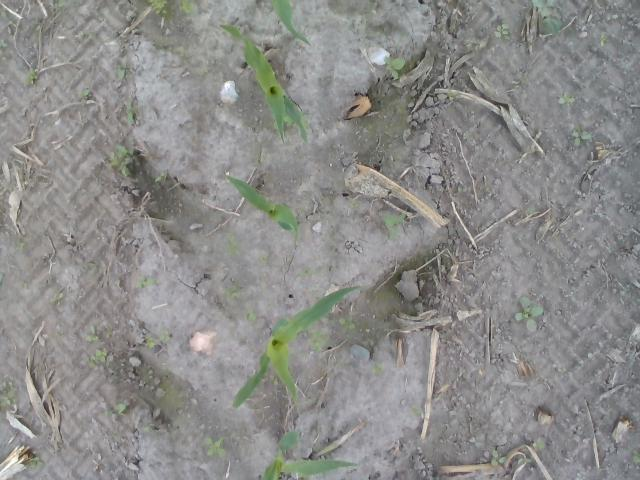Maize: (231, 286, 360, 410), (214, 21, 309, 146), (222, 174, 299, 244), (262, 432, 360, 480), (269, 0, 313, 48)
Weeds: (530, 0, 563, 37), (514, 294, 544, 332), (78, 348, 114, 368), (382, 211, 406, 241), (108, 142, 129, 176), (0, 380, 18, 418), (145, 0, 175, 21), (384, 55, 409, 80), (145, 328, 170, 352), (308, 329, 329, 353), (204, 436, 227, 456), (223, 234, 241, 257), (482, 448, 506, 465), (571, 128, 593, 146), (134, 272, 158, 288), (338, 316, 359, 334), (494, 20, 512, 40), (296, 265, 320, 279), (223, 284, 241, 302), (103, 403, 128, 415), (85, 325, 101, 343), (127, 102, 138, 126), (370, 360, 386, 376), (168, 42, 186, 56), (178, 0, 192, 16), (242, 305, 256, 321), (558, 93, 576, 105), (530, 437, 546, 450), (53, 0, 65, 17), (627, 350, 637, 370), (142, 368, 154, 384), (116, 64, 128, 80), (26, 68, 38, 84), (594, 33, 608, 46), (28, 456, 41, 469), (50, 293, 64, 305), (152, 170, 164, 184), (0, 38, 7, 62), (16, 238, 27, 253), (632, 448, 640, 466), (80, 31, 98, 39), (30, 20, 40, 34), (79, 87, 91, 97), (0, 8, 11, 18), (606, 14, 624, 20), (409, 406, 422, 414), (516, 456, 528, 464), (258, 255, 268, 264), (558, 367, 568, 376), (350, 199, 360, 208), (271, 376, 279, 385), (527, 208, 535, 214), (234, 16, 240, 20)
